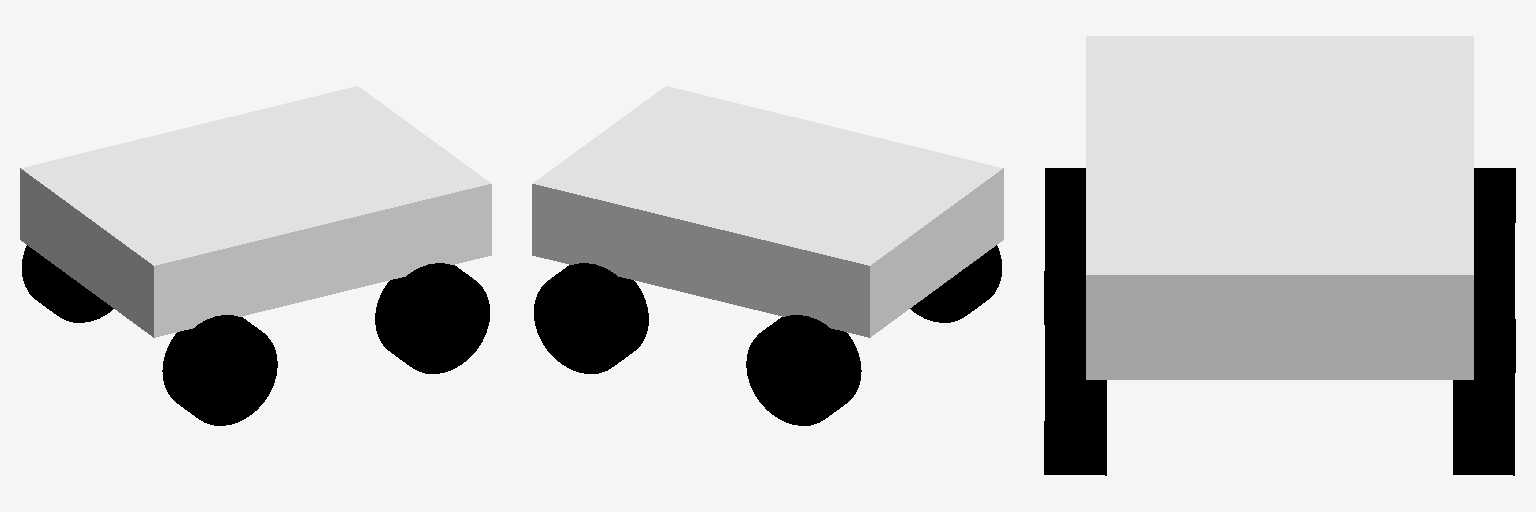
The robot description file, URDF, robot "wheeltec_robot":
<?xml version="1.0" ?>
<robot name="wheeltec_robot">

    <link name="base_link">
        <visual>
            <origin xyz=" 0 0 0.0975" rpy="0 0 0" />
            <geometry>
                <box size="0.27 0.185 0.055"/>
            </geometry>
            <material name="white">
                <color rgba="1 1 1 1"/>
            </material>
        </visual>
    </link>   

    <joint name="left_wheel_joint" type="continuous">
        <origin xyz="-0.085 0.0975 0.0375" rpy="1.57 0 0"/>
        <parent link="base_link"/>
        <child link="left_wheel_link"/>
        <axis xyz="0 1 0"/>
    </joint>

    <link name="left_wheel_link">
        <visual>
            <origin xyz="0 0 0" rpy="0 0 0" />
            <geometry>
                <cylinder radius="0.0375" length = "0.03"/>
            </geometry>
            <material name="black">
                <color rgba="0 0 0 1"/>
            </material>
        </visual>
    </link>

    <joint name="right_wheel_joint" type="continuous">
        <origin xyz="-0.085 -0.0975 0.0375" rpy="1.57 0 0"/>
        <parent link="base_link"/>
        <child link="right_wheel_link"/>
        <axis xyz="0 1 0"/>
    </joint>

    <link name="right_wheel_link">
        <visual>
            <origin xyz="0 0 0" rpy="0 0 0" />
            <geometry>
                <cylinder radius="0.0375" length = "0.03"/>
            </geometry>
            <material name="black">
                <color rgba="0 0 0 1"/>
            </material>
        </visual>
    </link>

      <joint name="left_front_joint" type="continuous">
        <origin xyz="0.085 0.0975 0.0375" rpy="1.57 0 0"/>
        <parent link="base_link"/>
        <child link="left_front_link"/>
        <axis xyz="0 1 0"/>
    </joint>

    <link name="left_front_link">
        <visual>
            <origin xyz="0 0 0" rpy="0 0 0" />
            <geometry>
                <cylinder radius="0.0375" length = "0.03"/>
            </geometry>
            <material name="black">
                <color rgba="0 0 0 1"/>
            </material>
        </visual>
    </link>

    <joint name="right_front_joint" type="continuous">
        <origin xyz="0.085 -0.0975 0.0375" rpy="1.57 0 0"/>
        <parent link="base_link"/>
        <child link="right_front_link"/>
        <axis xyz="0 1 0"/>
    </joint>

    <link name="right_front_link">
        <visual>
            <origin xyz="0 0 0" rpy="0 0 0" />
            <geometry>
                <cylinder radius="0.0375" length = "0.03"/>
            </geometry>
            <material name="black">
                <color rgba="0 0 0 1"/>
            </material>
        </visual>
    </link>


</robot>

--- What the picture shows (computed from the rendered views, not written in the file) ---
3 views of the same robot in one strip: view 1: azimuth 30°, elevation 25°; view 2: azimuth 150°, elevation 25°; view 3: azimuth 270°, elevation 25° (orthographic).
Model wheeltec_robot with 5 links and 4 joints (4 continuous), rooted at base_link, posed all joints at 0.
Links seen in each view (by area): view 1: base_link, right_front_link, right_wheel_link, left_wheel_link; view 2: base_link, left_front_link, left_wheel_link, right_wheel_link; view 3: base_link, left_front_link, right_front_link, left_wheel_link, right_wheel_link.
Link boxes in pixels (x1=…): base_link: x1=20, y1=86, x2=491, y2=337; right_front_link: x1=375, y1=263, x2=489, y2=373; right_wheel_link: x1=162, y1=315, x2=277, y2=425; left_wheel_link: x1=22, y1=245, x2=113, y2=322; base_link: x1=532, y1=86, x2=1003, y2=337; left_front_link: x1=534, y1=263, x2=648, y2=373; left_wheel_link: x1=746, y1=315, x2=861, y2=425; right_wheel_link: x1=910, y1=245, x2=1001, y2=322; base_link: x1=1086, y1=36, x2=1473, y2=379; left_front_link: x1=1453, y1=319, x2=1515, y2=475; right_front_link: x1=1044, y1=319, x2=1106, y2=475; left_wheel_link: x1=1474, y1=168, x2=1515, y2=318; right_wheel_link: x1=1044, y1=168, x2=1085, y2=324.
Bounding box of the posed robot: 0.27 × 0.2251 × 0.125 m (x, y, z).
Geometry: primitives only (box / cylinder / sphere), no mesh files.